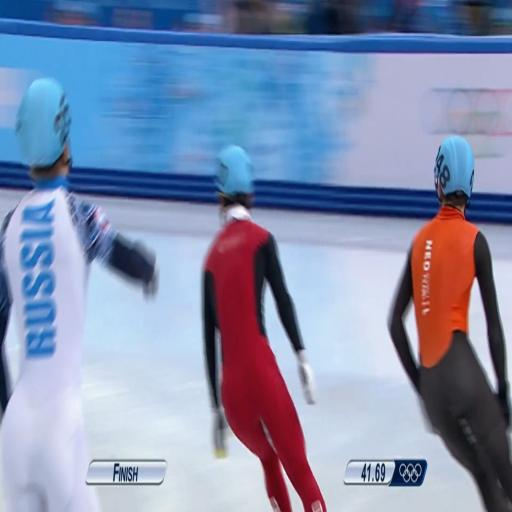Skater: (0, 79, 158, 511), (389, 136, 511, 511), (203, 146, 325, 511)
